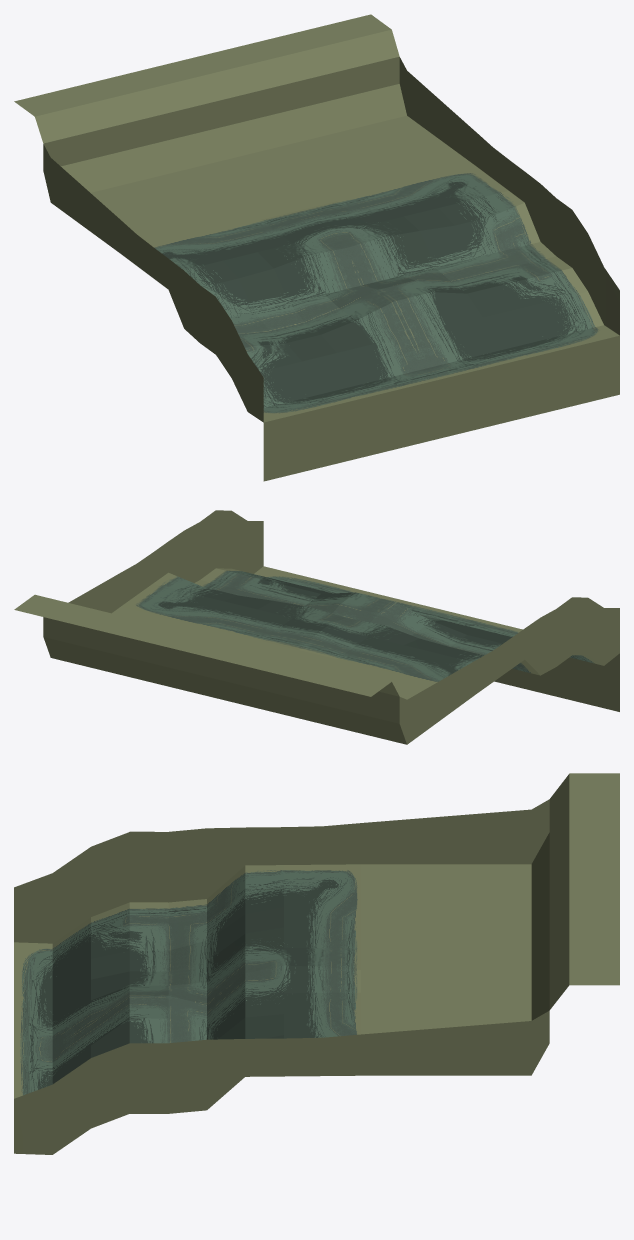
Rendered from BogBaseFBX.fbx.
3 views of the same model, one above another, from view 1: azimuth 30°, elevation 25°; view 2: azimuth 150°, elevation 25°; view 3: azimuth 270°, elevation 25° (orthographic). The views are drawn at different scales.
Visible parts, largest first — view 1: BogArenaBase; view 2: BogArenaBase; view 3: BogArenaBase.
Part boxes in pixels (x1,y1,x2,y2): BogArenaBase: (14,14,619,481); BogArenaBase: (14,510,619,744); BogArenaBase: (14,773,619,1154).
Bounding box in the file's own units: 40271 × 21311 × 48688.
